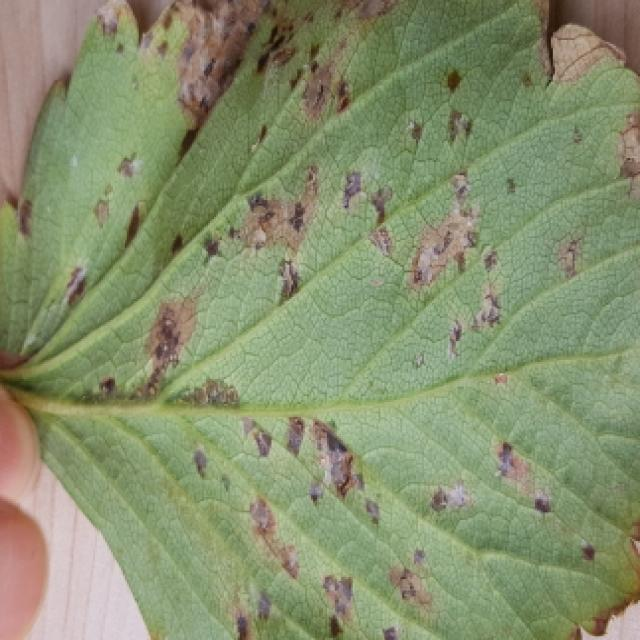Angular Leafspot: (0, 0, 640, 640)
